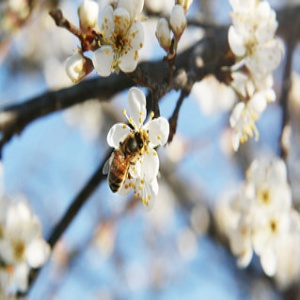bee: (102, 125, 149, 197)
